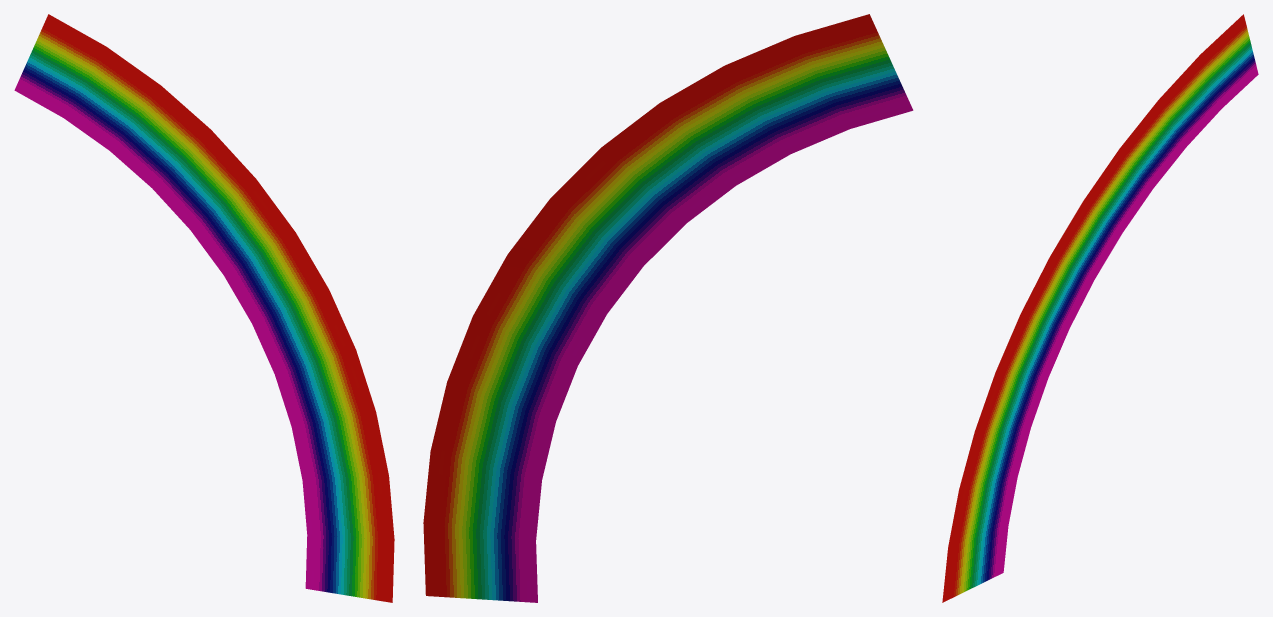
The model's file is Rainbow.FBX.
3 renders of one model, left to right at view 1: azimuth 30°, elevation 25°; view 2: azimuth 210°, elevation 25°; view 3: azimuth 270°, elevation 25°, orthographic. The views are drawn at different scales.
Visible parts, largest first — view 1: Rainbow1; view 2: Rainbow1; view 3: Rainbow1.
Part boxes in pixels (bbox=[...]): Rainbow1: bbox=[14, 14, 394, 602]; Rainbow1: bbox=[423, 14, 913, 602]; Rainbow1: bbox=[942, 14, 1258, 602].
Size of the model in its own units: 569 by 1292 by 740.
